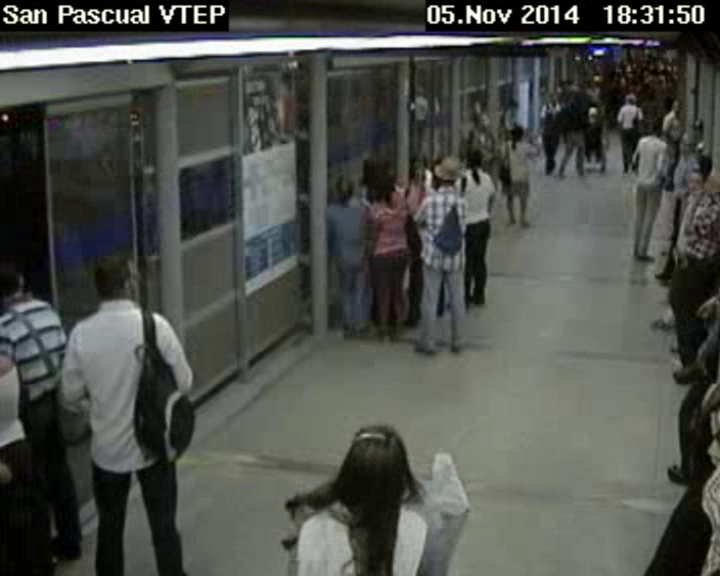person: (340, 416, 415, 506), (89, 252, 156, 308), (1, 262, 29, 304), (365, 158, 396, 192), (432, 161, 460, 190), (680, 130, 701, 161), (684, 168, 704, 193), (464, 144, 482, 171), (332, 174, 353, 197), (686, 118, 706, 138), (409, 158, 427, 180), (694, 154, 711, 177), (510, 124, 526, 144), (647, 118, 661, 137), (474, 112, 488, 129), (623, 91, 636, 108), (669, 96, 680, 112), (571, 89, 582, 105), (545, 91, 558, 104), (588, 107, 600, 120), (506, 99, 517, 112)
